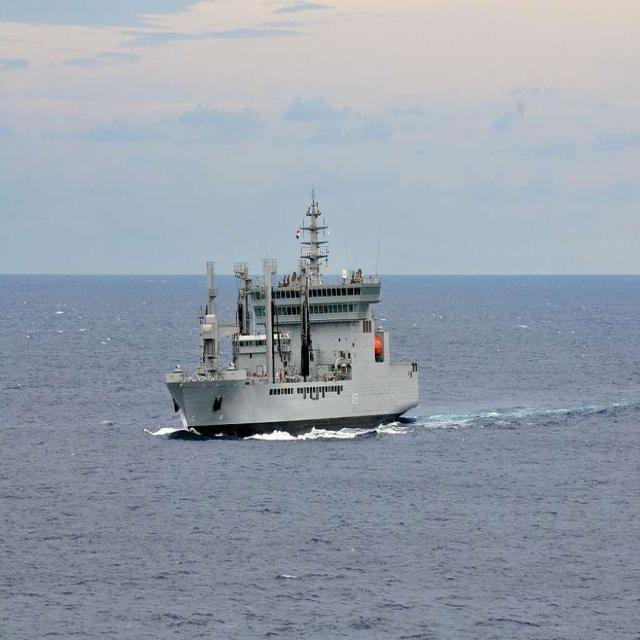Tanker-Deepak-Class-IND: (164, 178, 422, 424)
